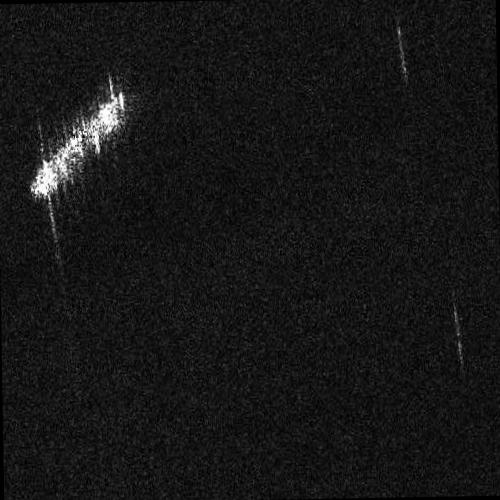ship: (30, 92, 125, 198)
